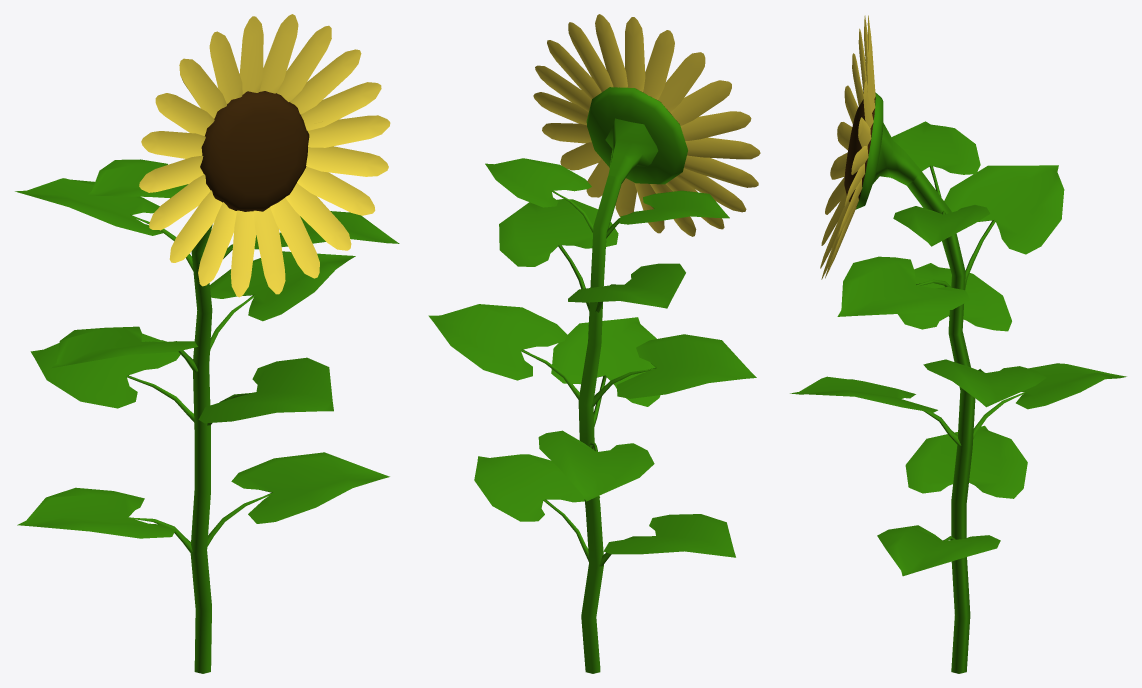
File: sunflower.fbx
3 renders of one model, left to right at view 1: azimuth 30°, elevation 25°; view 2: azimuth 150°, elevation 25°; view 3: azimuth 270°, elevation 25°, orthographic. The views are drawn at different scales.
Parts seen in each view (by area): view 1: polySurface299, polySurface309, polySurface313, polySurface275, polySurface312, polySurface311, polySurface304, polySurface270; view 2: polySurface299, polySurface312, polySurface275, polySurface309, polySurface304, polySurface313, polySurface311, polySurface270; view 3: polySurface304, polySurface309, polySurface311, polySurface312, polySurface270, polySurface299, polySurface275, polySurface313.
Boxes of the visible parts, box(x1,y1,x2,y2) form: polySurface299: box(139, 14, 390, 297); polySurface309: box(17, 452, 389, 552); polySurface313: box(200, 91, 309, 211); polySurface275: box(30, 333, 333, 425); polySurface312: box(52, 251, 355, 372); polySurface311: box(190, 224, 212, 673); polySurface304: box(15, 178, 399, 270); polySurface270: box(87, 159, 188, 198); polySurface299: box(533, 14, 760, 236); polySurface312: box(428, 304, 756, 407); polySurface275: box(538, 317, 660, 501); polySurface309: box(474, 454, 735, 566); polySurface304: box(499, 199, 685, 312); polySurface313: box(586, 87, 687, 184); polySurface311: box(578, 175, 621, 673); polySurface270: box(485, 158, 729, 238); polySurface304: box(837, 165, 1064, 316); polySurface309: box(877, 425, 1027, 576); polySurface311: box(907, 170, 975, 673); polySurface312: box(898, 263, 1046, 407); polySurface270: box(891, 121, 990, 246); polySurface299: box(820, 15, 875, 279); polySurface275: box(790, 363, 1126, 445); polySurface313: box(844, 92, 920, 209).
Bounding box in the file's own units: 67.23 × 130 × 61.75.
